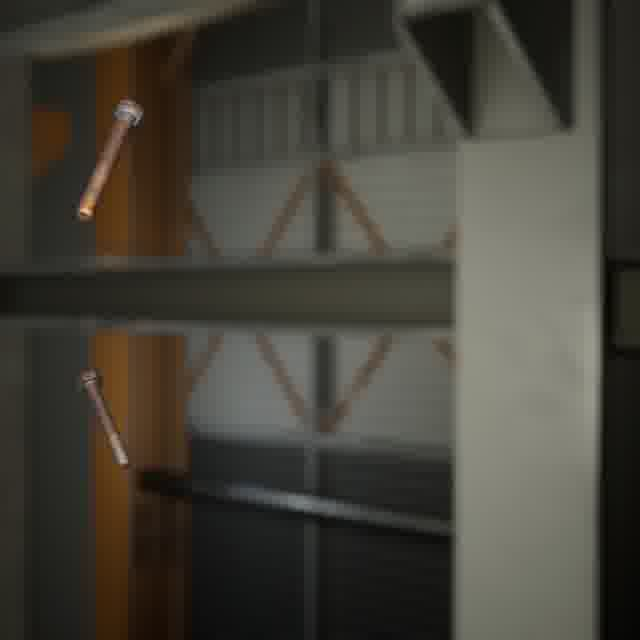bolt: (72, 95, 147, 225), (72, 366, 135, 473)
